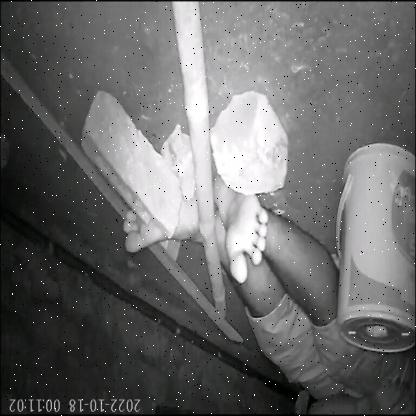leg: (198, 171, 331, 320), (101, 172, 216, 276)
